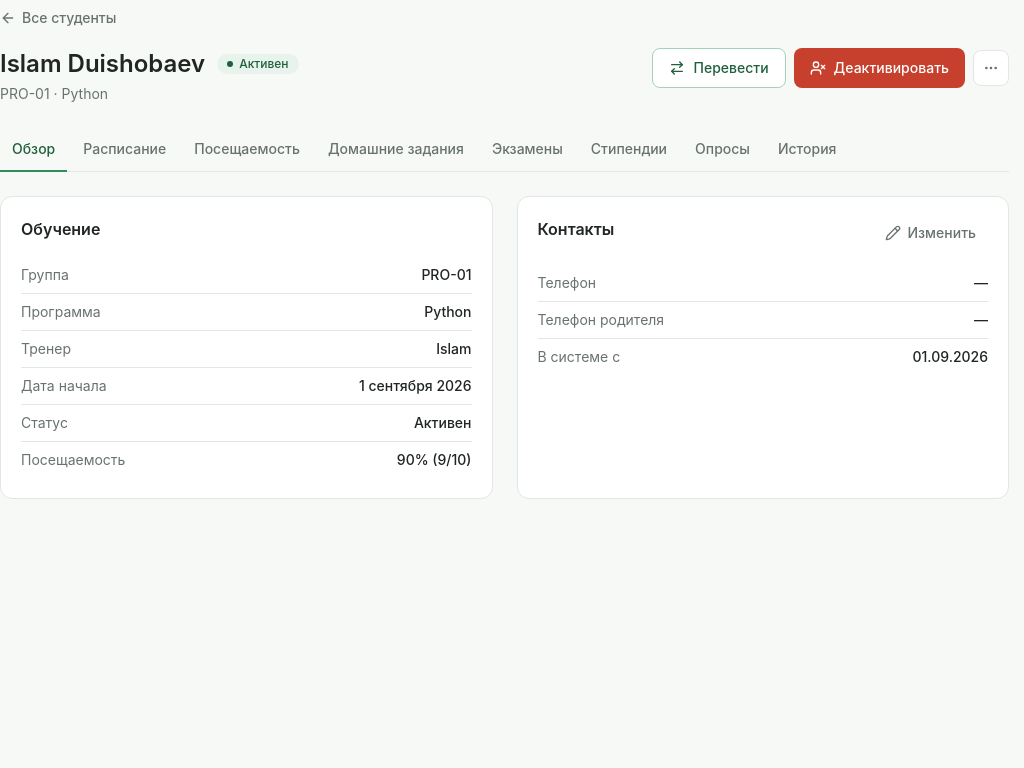
Test: Assistant Workspace › deactivates a student from the profile: reason → confirm, never a delete
The image size is (1024, 768).
Click the button "Деактивировать": x=879, y=68 [794,48,965,88]
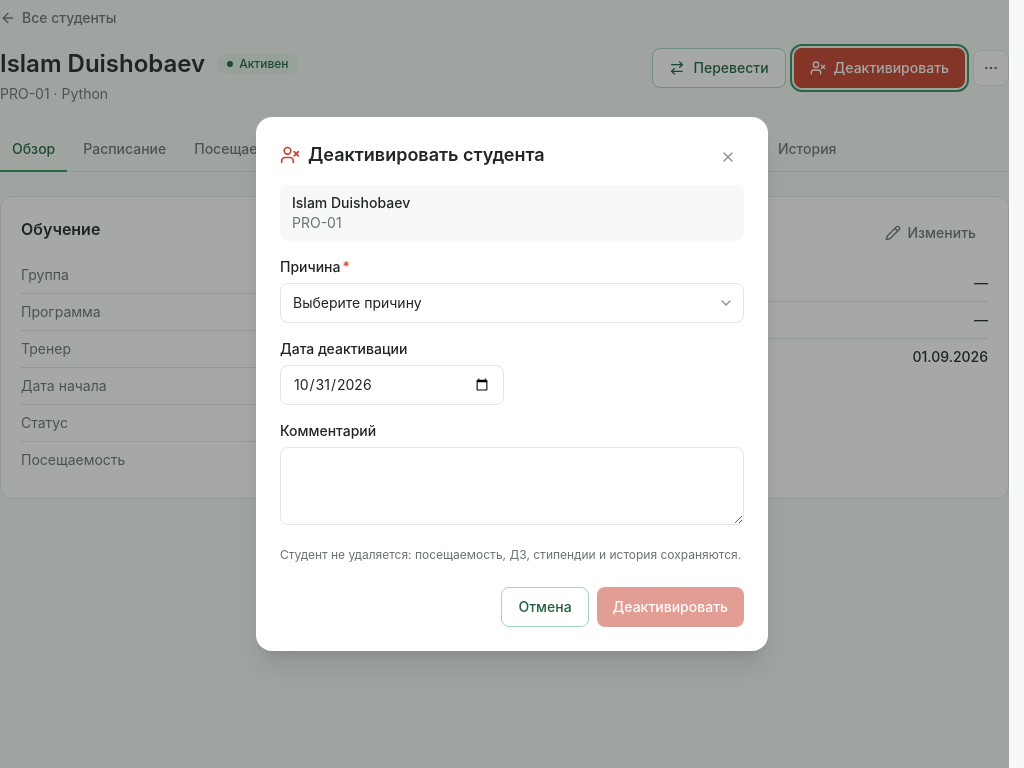
Check: the button "Деактивировать" is disabled, box [597,587,744,627]
Select "Финансовые проблемы" in the dropdown labelled "Причина*": x=512, y=303 [280,283,744,323]
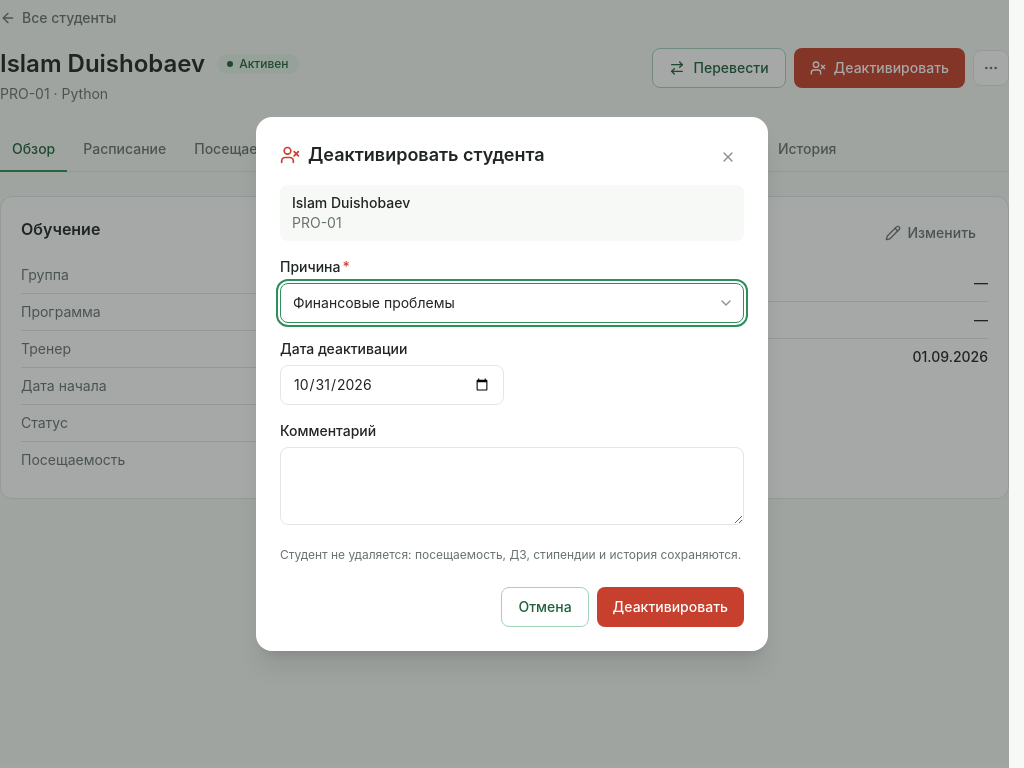
Click the button "Деактивировать": x=670, y=607 [597,587,744,627]
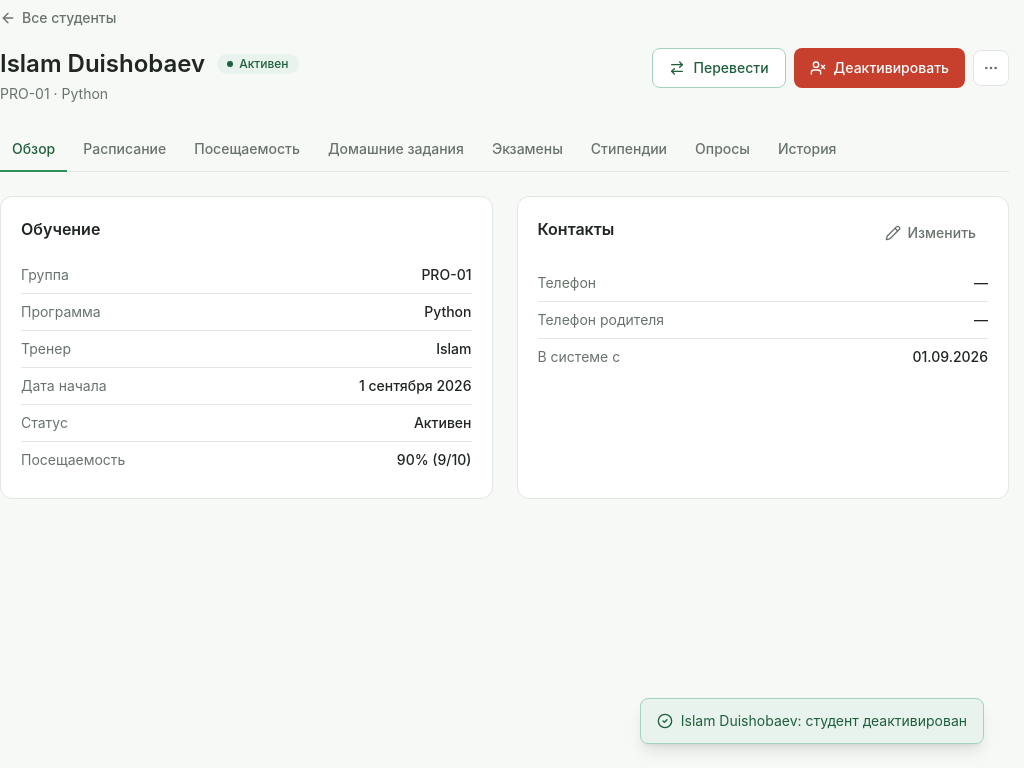
Check: the dialog is gone
